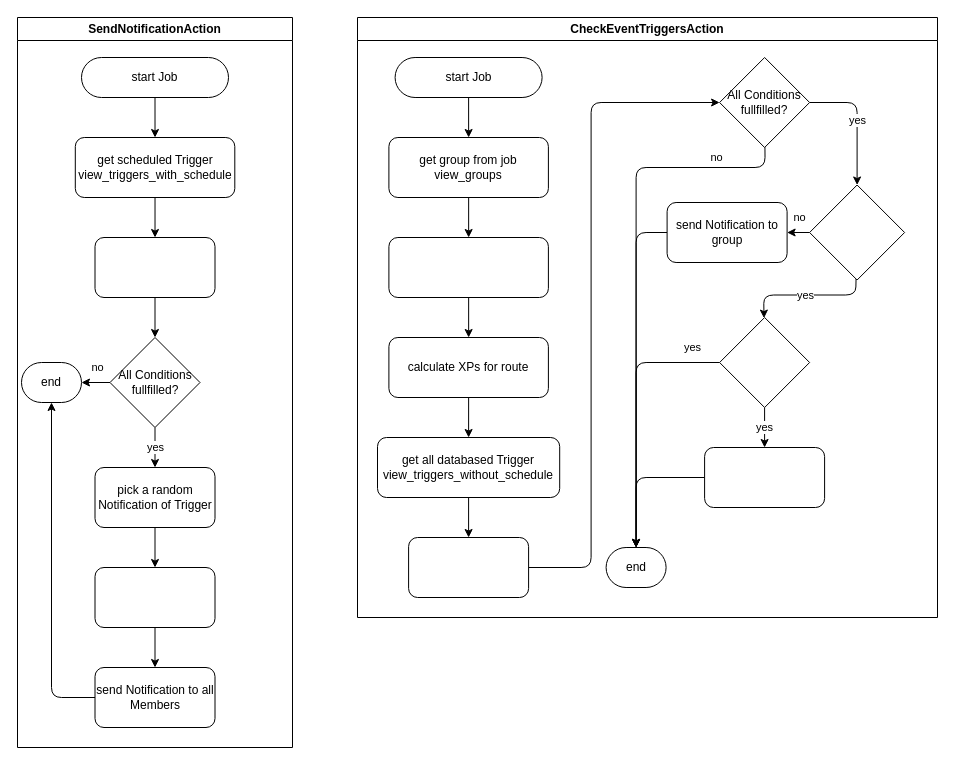
Some shapes in this 955 by 765 pixel diagram are drawn without their labels. The shapes that lost their labels are listed below. From the top down, each one's centre as x and y in pixels, then its label:
At point (857, 232): "Is Trigger an Achievement?".
At point (154, 267): "for all Groups check Conditions".
At point (468, 267): "get route data from group".
At point (764, 362): "Has group that Achievement?".
At point (764, 477): "add & send Achievement to group".
At point (468, 567): "for Group check Conditions".
At point (154, 597): "for all Members personalise Notification [optional]".
